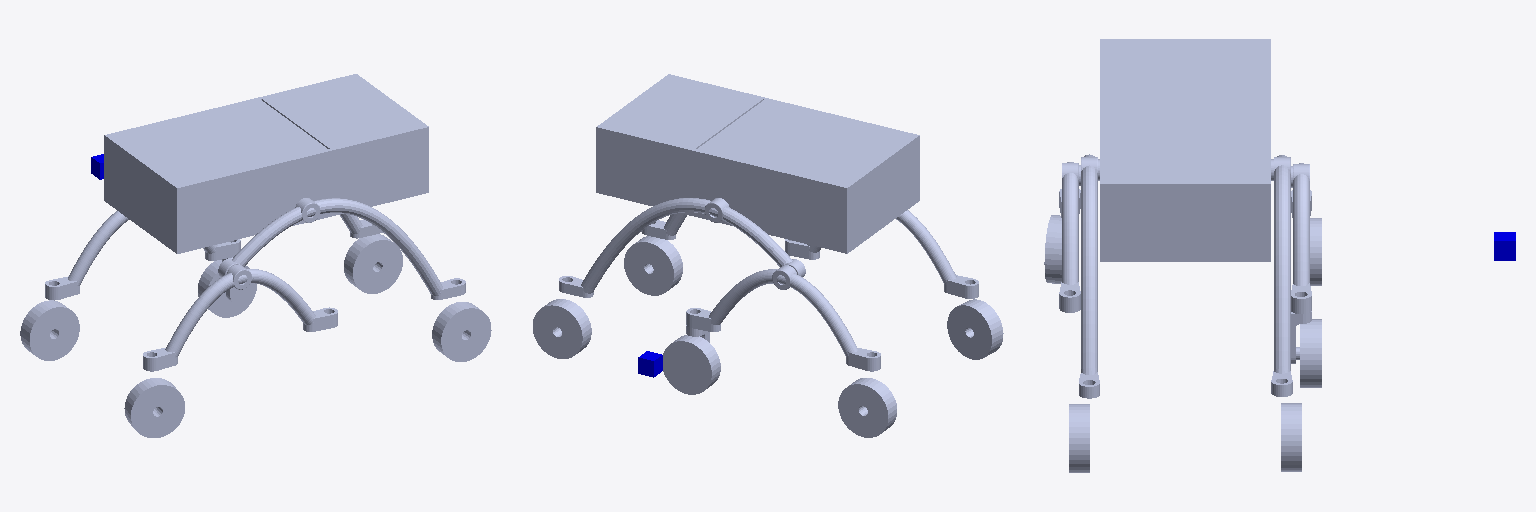
The robot description file, URDF, robot "drive":
<robot name="drive">
  <link name="base">
    <inertial>
      <origin xyz="0.0813975388640472 0.349730166585041 0.745233391827634" rpy="0 0 0" />
      <mass value="12.720238406316" />
      <inertia ixx="0.261391224287362" ixy="0.00262186748821055" ixz="1.91697306700848E-16"
               iyy="0.843990123685326" iyz="5.10428306001413E-17" izz="0.664922609272974" />
    </inertial>
    <visual>
      <origin xyz="0 0 0" rpy="0 0 0" />
      <geometry>
        <mesh filename="package://drive/meshes/base.STL" />
      </geometry>
      <material name="">
        <color rgba="0.792156862745098 0.819607843137255 0.933333333333333 1" />
      </material>
    </visual>
    <collision>
      <origin xyz="0 0 0" rpy="0 0 0" />
      <geometry>
        <mesh filename="package://drive/meshes/base.STL" />
      </geometry>
    </collision>
  </link>

  <link name="bogie_front_left">
    <inertial>
      <origin xyz="0.0129852901860572 -3.88578058618805E-16 0.0657298216350096" rpy="0 0 0" />
      <mass value="0.245029467362339" />
      <inertia ixx="0.000481938208354005" ixy="2.91379333855479E-19" ixz="2.30185129071683E-05"
               iyy="0.000539038649100082" iyz="1.60956143365272E-18" izz="0.000142438687060036" />
    </inertial>
    <visual>
      <origin xyz="0 0 0" rpy="0 0 0" />
      <geometry>
        <mesh filename="package://drive/meshes/bogie_front_left.STL" />
      </geometry>
      <material name="">
        <color rgba="0.792156862745098 0.819607843137255 0.933333333333333 1" />
      </material>
    </visual>
    <collision>
      <origin xyz="0 0 0" rpy="0 0 0" />
      <geometry>
        <mesh filename="package://drive/meshes/bogie_front_left.STL" />
      </geometry>
    </collision>
  </link>

  <joint name="bogie_front_left_joint" type="continuous">
    <origin xyz="-0.43217 -1.0151 0" rpy="3.1416 0 1.4079" />
    <parent link="base" />
    <child link="bogie_front_left" />
    <axis xyz="0 0 1" />
  </joint>

  <link name="wheel_1">
    <inertial>
      <origin xyz="5.55111512312578E-17 -0.0225000000000002 -4.9960036108132E-16" rpy="0 0 0" />
      <mass value="0.969966731795851" />
      <inertia ixx="0.00180858380199435" ixy="-6.87790753170492E-19" ixz="-3.21872519956634E-20"
               iyy="0.00321301479907376" iyz="-3.52365706057789E-19" izz="0.00180858380199435" />
    </inertial>
    <visual>
      <origin xyz="0 0 0" rpy="0 0 0" />
      <geometry>
        <mesh filename="package://drive/meshes/wheel_1.STL" />
      </geometry>
      <material name="">
        <color rgba="0.792156862745098 0.819607843137255 0.933333333333333 1" />
      </material>
    </visual>
    <collision>
      <origin xyz="0 0 0" rpy="0 0 0" />
      <geometry>
        <mesh filename="package://drive/meshes/wheel_1.STL" />
      </geometry>
    </collision>
  </link>

  <joint name="wheel_1_joint" type="continuous">
    <origin xyz="0 0 0.11198" rpy="3.1416 1.3751 1.5708" />
    <parent link="bogie_front_left" />
    <child link="wheel_1" />
    <axis xyz="0 1 0" />
  </joint>

  <link name="bogie_middle_left">
    <inertial>
      <origin xyz="0.0129852901860572 -2.77555756156289E-17 0.0657298216350098" rpy="0 0 0" />
      <mass value="0.245029467362339" />
      <inertia ixx="0.000481938208354005" ixy="3.57721817984611E-20" ixz="2.30185129071682E-05"
               iyy="0.000539038649100082" iyz="2.20773017023231E-20" izz="0.000142438687060036" />
    </inertial>
    <visual>
      <origin xyz="0 0 0" rpy="0 0 0" />
      <geometry>
        <mesh filename="package://drive/meshes/bogie_middle_left.STL" />
      </geometry>
      <material name="">
        <color rgba="0.792156862745098 0.819607843137255 0.933333333333333 1" />
      </material>
    </visual>
    <collision>
      <origin xyz="0 0 0" rpy="0 0 0" />
      <geometry>
        <mesh filename="package://drive/meshes/bogie_middle_left.STL" />
      </geometry>
    </collision>
  </link>

  <joint name="bogie_middle_left_joint" type="continuous">
    <origin xyz="0.13025 -1.0151 0" rpy="-3.1416 0 1.5708" />
    <parent link="base" />
    <child link="bogie_middle_left" />
    <axis xyz="0 0 1" />
  </joint>

  <link name="wheel_2">
    <inertial>
      <origin xyz="-2.77555756156289E-17 -0.0225000000000002 0" rpy="0 0 0" />
      <mass value="0.969966731795849" />
      <inertia ixx="0.00180858380199434" ixy="7.49357438781787E-20" ixz="0"
               iyy="0.00321301479907375" iyz="-6.58844981459226E-21" izz="0.00180858380199434" />
    </inertial>
    <visual>
      <origin xyz="0 0 0" rpy="0 0 0" />
      <geometry>
        <mesh filename="package://drive/meshes/wheel_2.STL" />
      </geometry>
      <material name="">
        <color rgba="0.792156862745098 0.819607843137255 0.933333333333333 1" />
      </material>
    </visual>
    <collision>
      <origin xyz="0 0 0" rpy="0 0 0" />
      <geometry>
        <mesh filename="package://drive/meshes/wheel_2.STL" />
      </geometry>
    </collision>
  </link>

  <joint name="wheel_2_joint" type="continuous">
    <origin xyz="0 0 0.111977638143316" rpy="0 0 -1.5708" />
    <parent link="bogie_middle_left" />
    <child link="wheel_2" />
    <axis xyz="0 1 0" />
  </joint>

  <link name="rocker_left">
    <inertial>
      <origin xyz="0.0129852911708225 1.11022302462516E-16 0.0661603898916332" rpy="0 0 0" />
      <mass value="0.245029467362339" />
      <inertia ixx="0.000481938209039244" ixy="4.07634570525163E-21" ixz="2.30185078538829E-05"
               iyy="0.000539038649100083" iyz="-4.63750538921162E-20" izz="0.000142438686374797" />
    </inertial>
    <visual>
      <origin xyz="0 0 0" rpy="0 0 0" />
      <geometry>
        <mesh filename="package://drive/meshes/rocker_left.STL" />
      </geometry>
      <material name="">
        <color rgba="0.792156862745098 0.819607843137255 0.933333333333333 1" />
      </material>
    </visual>
    <collision>
      <origin xyz="0 0 0" rpy="0 0 0" />
      <geometry>
        <mesh filename="package://drive/meshes/rocker_left.STL" />
      </geometry>
    </collision>
  </link>

  <joint name="rocker_left_joint" type="continuous">
    <origin xyz="0.56095 -0.97013 -0.019803" rpy="3.1158 0 1.5708" />
    <parent link="base" />
    <child link="rocker_left" />
    <axis xyz="0 0 1" />
  </joint>

  <link name="wheel_3">
    <inertial>
      <origin xyz="-2.22044604925031E-16 0.0225 1.60982338570648E-15" rpy="0 0 0" />
      <mass value="0.969966731795849" />
      <inertia ixx="0.00180858380199434" ixy="-1.7309010163403E-19" ixz="0"
               iyy="0.00321301479907375" iyz="-1.01193372727594E-19" izz="0.00180858380199434" />
    </inertial>
    <visual>
      <origin xyz="0 0 0" rpy="0 0 0" />
      <geometry>
        <mesh filename="package://drive/meshes/wheel_3.STL" />
      </geometry>
      <material name="">
        <color rgba="0.792156862745098 0.819607843137255 0.933333333333333 1" />
      </material>
    </visual>
    <collision>
      <origin xyz="0 0 0" rpy="0 0 0" />
      <geometry>
        <mesh filename="package://drive/meshes/wheel_3.STL" />
      </geometry>
    </collision>
  </link>

  <joint name="wheel_3_joint" type="continuous">
    <origin xyz="0 0 0.112408206593219" rpy="0 0 1.5708" />
    <parent link="rocker_left" />
    <child link="wheel_3" />
    <axis xyz="0 1 0" />
  </joint>

  <link name="bogie_front_right">
    <inertial>
      <origin xyz="0.0129852901860573 -1.11022302462516E-16 0.0662521834916939" rpy="0 0 0" />
      <mass value="0.245029467362339" />
      <inertia ixx="0.000481938208354006" ixy="-2.62275912106055E-20" ixz="2.30185129071678E-05"
               iyy="0.000539038649100083" iyz="3.50614081294898E-19" izz="0.000142438687060036" />
    </inertial>
    <visual>
      <origin xyz="0 0 0" rpy="0 0 0" />
      <geometry>
        <mesh filename="package://drive/meshes/bogie_front_right.STL" />
      </geometry>
      <material name="">
        <color rgba="0.792156862745098 0.819607843137255 0.933333333333333 1" />
      </material>
    </visual>
    <collision>
      <origin xyz="0 0 0" rpy="0 0 0" />
      <geometry>
        <mesh filename="package://drive/meshes/bogie_front_right.STL" />
      </geometry>
    </collision>
  </link>

  <joint name="bogie_front_right_joint" type="continuous">
    <origin xyz="-0.43066 -0.47513 -0.0023177" rpy="3.1416 0 -1.5708" />
    <parent link="base" />
    <child link="bogie_front_right" />
    <axis xyz="0 0 1" />
  </joint>

  <link name="wheel_4">
    <inertial>
      <origin xyz="1.66533453693773E-16 -0.0225 -1.11022302462516E-16" rpy="0 0 0" />
      <mass value="0.969966731795849" />
      <inertia ixx="0.00180858380199434" ixy="-4.01879759813685E-19" ixz="0"
               iyy="0.00321301479907375" iyz="-6.68853722148441E-20" izz="0.00180858380199434" />
    </inertial>
    <visual>
      <origin xyz="0 0 0" rpy="0 0 0" />
      <geometry>
        <mesh filename="package://drive/meshes/wheel_4.STL" />
      </geometry>
      <material name="">
        <color rgba="0.792156862745098 0.819607843137255 0.933333333333333 1" />
      </material>
    </visual>
    <collision>
      <origin xyz="0 0 0" rpy="0 0 0" />
      <geometry>
        <mesh filename="package://drive/meshes/wheel_4.STL" />
      </geometry>
    </collision>
  </link>

  <joint name="wheel_4_joint" type="continuous">
    <origin xyz="0 0 0.1125" rpy="0 0 -1.5708" />
    <parent link="bogie_front_right" />
    <child link="wheel_4" />
    <axis xyz="0 1 0" />
  </joint>

  <link name="bogie_middle_right">
    <inertial>
      <origin xyz="0.0129852891007725 0.0414537955768247 0.0516810862683572" rpy="0 0 0" />
      <mass value="0.245029467362338" />
      <inertia ixx="0.000481938207599867" ixy="1.44026196203906E-05" ixz="1.79559667118559E-05"
               iyy="0.000383771035147503" iyz="-0.000193574527611515" izz="0.000297706301766753" />
    </inertial>
    <visual>
      <origin xyz="0 0 0" rpy="0 0 0" />
      <geometry>
        <mesh filename="package://drive/meshes/bogie_middle_right.STL" />
      </geometry>
      <material name="">
        <color rgba="0.792156862745098 0.819607843137255 0.933333333333333 1" />
      </material>
    </visual>
    <collision>
      <origin xyz="0 0 0" rpy="0 0 0" />
      <geometry>
        <mesh filename="package://drive/meshes/bogie_middle_right.STL" />
      </geometry>
    </collision>
  </link>

  <joint name="bogie_middle_right_joint" type="continuous">
    <origin xyz="0.13176 -0.47513 -0.0023177" rpy="-2.4656 0 -1.5708" />
    <parent link="base" />
    <child link="bogie_middle_right" />
    <axis xyz="0 0.6257 0.78007" />
  </joint>

  <link name="wheel_5">
    <inertial>
      <origin xyz="-1.11022302462516E-16 -0.0225 -2.77555756156289E-16" rpy="0 0 0" />
      <mass value="0.969966731795849" />
      <inertia ixx="0.00180858380199434" ixy="-7.7153903575784E-20" ixz="-1.62630325872826E-19"
               iyy="0.00321301479907375" iyz="-4.01591574199174E-20" izz="0.00180858380199434" />
    </inertial>
    <visual>
      <origin xyz="0 0 0" rpy="0 0 0" />
      <geometry>
        <mesh filename="package://drive/meshes/wheel_5.STL" />
      </geometry>
      <material name="">
        <color rgba="0.792156862745098 0.819607843137255 0.933333333333333 1" />
      </material>
    </visual>
    <collision>
      <origin xyz="0 0 0" rpy="0 0 0" />
      <geometry>
        <mesh filename="package://drive/meshes/wheel_5.STL" />
      </geometry>
    </collision>
  </link>

  <joint name="wheel_5_joint" type="continuous">
    <origin xyz="0 0.0703909178023914 0.0877574423677957" rpy="0 0 -1.5708" />
    <parent link="bogie_middle_right" />
    <child link="wheel_5" />
    <axis xyz="0 1 0" />
  </joint>

  <link name="rocker_right">
    <inertial>
      <origin xyz="0.0129852901860573 -0.0049569707122793 0.0658721019855867" rpy="0 0 0" />
      <mass value="0.245029467362339" />
      <inertia ixx="0.000481938208354006" ixy="-1.72729257204929E-06" ixz="2.29536140254208E-05"
               iyy="0.000536805437098068" iyz="2.96766669183117E-05" izz="0.000144671899062051" />
    </inertial>
    <visual>
      <origin xyz="0 0 0" rpy="0 0 0" />
      <geometry>
        <mesh filename="package://drive/meshes/rocker_right.STL" />
      </geometry>
      <material name="">
        <color rgba="0.792156862745098 0.819607843137255 0.933333333333333 1" />
      </material>
    </visual>
    <collision>
      <origin xyz="0 0 0" rpy="0 0 0" />
      <geometry>
        <mesh filename="package://drive/meshes/rocker_right.STL" />
      </geometry>
    </collision>
  </link>

  <joint name="rocker_right_joint" type="continuous">
    <origin xyz="0.565118575030691 -0.520131514258346 -0.0143396560229379" rpy="3.10403771392678 0 -1.5708" />
    <parent link="base" />
    <child link="rocker_right" />
    <axis xyz="0 0.075039277255456 -0.997180578866726" />
  </joint>

  <link name="wheel_6">
    <inertial>
      <origin xyz="-2.22044604925031E-16 0.0225 -1.11022302462516E-16" rpy="0 0 0" />
      <mass value="0.969966731795848" />
      <inertia ixx="0.00180858380199434" ixy="-3.00981713702323E-20" ixz="0"
               iyy="0.00321301479907375" iyz="2.86816342322797E-20" izz="0.00180858380199434" />
    </inertial>
    <visual>
      <origin xyz="0 0 0" rpy="0 0 0" />
      <geometry>
        <mesh filename="package://drive/meshes/wheel_6.STL" />
      </geometry>
      <material name="">
        <color rgba="0.792156862745098 0.819607843137255 0.933333333333333 1" />
      </material>
    </visual>
    <collision>
      <origin xyz="0 0 0" rpy="0 0 0" />
      <geometry>
        <mesh filename="package://drive/meshes/wheel_6.STL" />
      </geometry>
    </collision>
  </link>

  <joint name="wheel_6_joint" type="continuous">
    <origin xyz="0 -0.00842737343770561 0.111989526422662" rpy="3.1416 -0.6966 -1.5708" />
    <parent link="rocker_right" />
    <child link="wheel_6" />
    <axis xyz="0 1 0" />
  </joint>

  <!-- =================================================== -->
  <!-- Added Sensor Definitions -->
  <!-- =================================================== -->

  <!-- LIDAR Sensor -->
  <link name="lidar_link">
    <inertial>
      <origin xyz="0 0 0" rpy="0 0 0"/>
      <mass value="0.5"/>
      <inertia ixx="0.001" ixy="0" ixz="0" iyy="0.001" iyz="0" izz="0.001"/>
    </inertial>
    <visual>
      <origin xyz="0 0 0" rpy="0 0 0"/>
      <geometry>
        <mesh filename="package://drive/meshes/lidar.STL" scale="1 1 1"/>
      </geometry>
      <material name="">
        <color rgba="0.5 0.5 0.5 1"/>
      </material>
    </visual>
    <collision>
      <origin xyz="0 0 0" rpy="0 0 0"/>
      <geometry>
        <mesh filename="package://drive/meshes/lidar.STL" scale="1 1 1"/>
      </geometry>
    </collision>
  </link>

  <joint name="lidar_joint" type="fixed">
    <parent link="base"/>
    <child link="lidar_link"/>
    <origin xyz="0.3 0 0.2" rpy="0 0 0"/>
  </joint>

  <!-- IMU Sensor -->
  <link name="imu_link">
    <inertial>
      <origin xyz="0 0 0" rpy="0 0 0"/>
      <mass value="0.2"/>
      <inertia ixx="0.0001" ixy="0" ixz="0" iyy="0.0001" iyz="0" izz="0.0001"/>
    </inertial>
    <visual>
      <origin xyz="0 0 0" rpy="0 0 0"/>
      <geometry>
        <box size="0.05 0.05 0.05"/>
      </geometry>
      <material name="">
        <color rgba="0 0 1 1"/>
      </material>
    </visual>
    <collision>
      <origin xyz="0 0 0" rpy="0 0 0"/>
      <geometry>
        <box size="0.05 0.05 0.05"/>
      </geometry>
    </collision>
  </link>

  <joint name="imu_joint" type="fixed">
    <parent link="base"/>
    <child link="imu_link"/>
    <origin xyz="0 0 0.1" rpy="0 0 0"/>
  </joint>
</robot>

--- What the picture shows (computed from the rendered views, not written in the file) ---
Views: 3 orthographic renders of the robot side by side, from view 1: azimuth 30°, elevation 25°; view 2: azimuth 150°, elevation 25°; view 3: azimuth 270°, elevation 25°.
Robot: drive — 15 links, 14 joints (12 continuous, 2 fixed); root link base; default pose: all joints at 0.
Links seen in each view (by area): view 1: base, wheel_1, wheel_4, wheel_3, wheel_6, wheel_5; view 2: base, wheel_6, wheel_4, wheel_3, wheel_5, wheel_1, imu_link; view 3: base, wheel_5, wheel_3, wheel_6, wheel_1, wheel_4, imu_link.
Boxes of the visible links, x1=… form: base: x1=45, y1=74, x2=465, y2=371; wheel_1: x1=124, y1=378, x2=184, y2=437; wheel_4: x1=20, y1=300, x2=79, y2=360; wheel_3: x1=432, y1=302, x2=491, y2=361; wheel_6: x1=344, y1=234, x2=402, y2=293; wheel_5: x1=198, y1=260, x2=256, y2=317; base: x1=559, y1=74, x2=978, y2=371; wheel_6: x1=533, y1=299, x2=591, y2=358; wheel_4: x1=838, y1=378, x2=896, y2=437; wheel_3: x1=624, y1=236, x2=682, y2=295; wheel_5: x1=663, y1=335, x2=720, y2=394; wheel_1: x1=947, y1=299, x2=1003, y2=359; imu_link: x1=638, y1=351, x2=662, y2=377; base: x1=1059, y1=39, x2=1311, y2=398; wheel_5: x1=1300, y1=319, x2=1321, y2=387; wheel_3: x1=1069, y1=404, x2=1089, y2=472; wheel_6: x1=1281, y1=403, x2=1301, y2=471; wheel_1: x1=1044, y1=215, x2=1061, y2=283; wheel_4: x1=1310, y1=218, x2=1321, y2=285; imu_link: x1=1494, y1=232, x2=1515, y2=260.
Size in the robot's own frame: 1.17 by 1.1 by 0.7003 metres.
7 mesh visuals loaded from 14 distinct referenced files (7 binary STL); not drawn: 7 (reference not matched to a file when rendering).